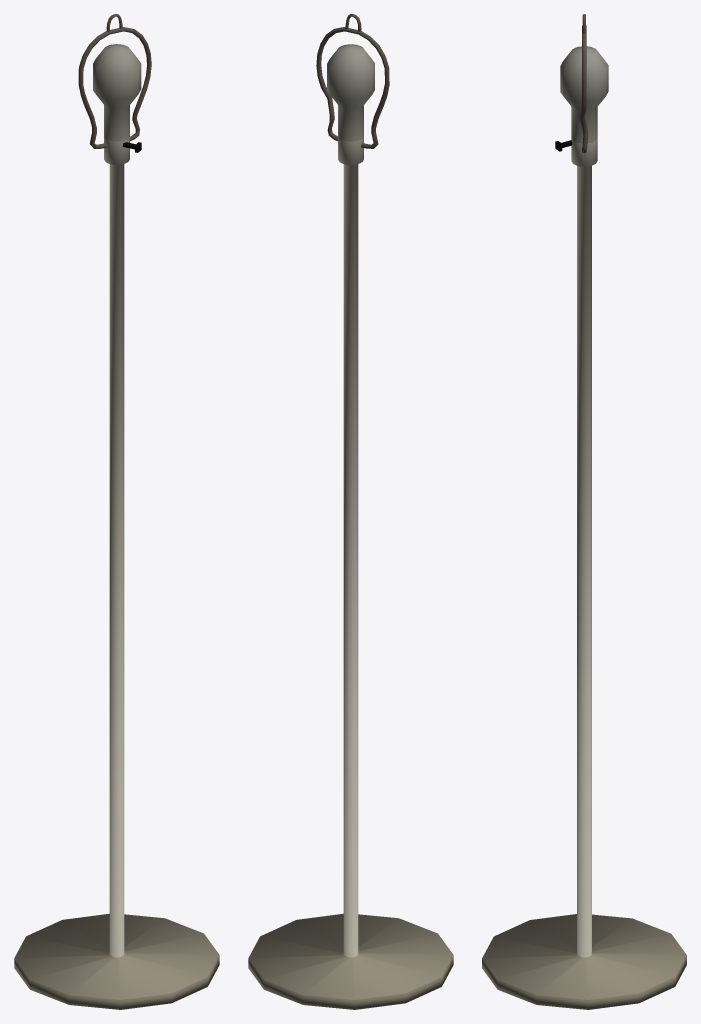
3 renders of one model, left to right at view 1: azimuth 30°, elevation 25°; view 2: azimuth 150°, elevation 25°; view 3: azimuth 270°, elevation 25°, orthographic.
Visible parts, largest first — view 1: base.064; view 2: base.064; view 3: base.064.
Part boxes in pixels (x1=…): base.064: x1=14, y1=14, x2=219, y2=1009; base.064: x1=248, y1=14, x2=453, y2=1009; base.064: x1=482, y1=14, x2=686, y2=1009.
Size of the model in its own units: 0.0977 by 0.5 by 0.0977.
